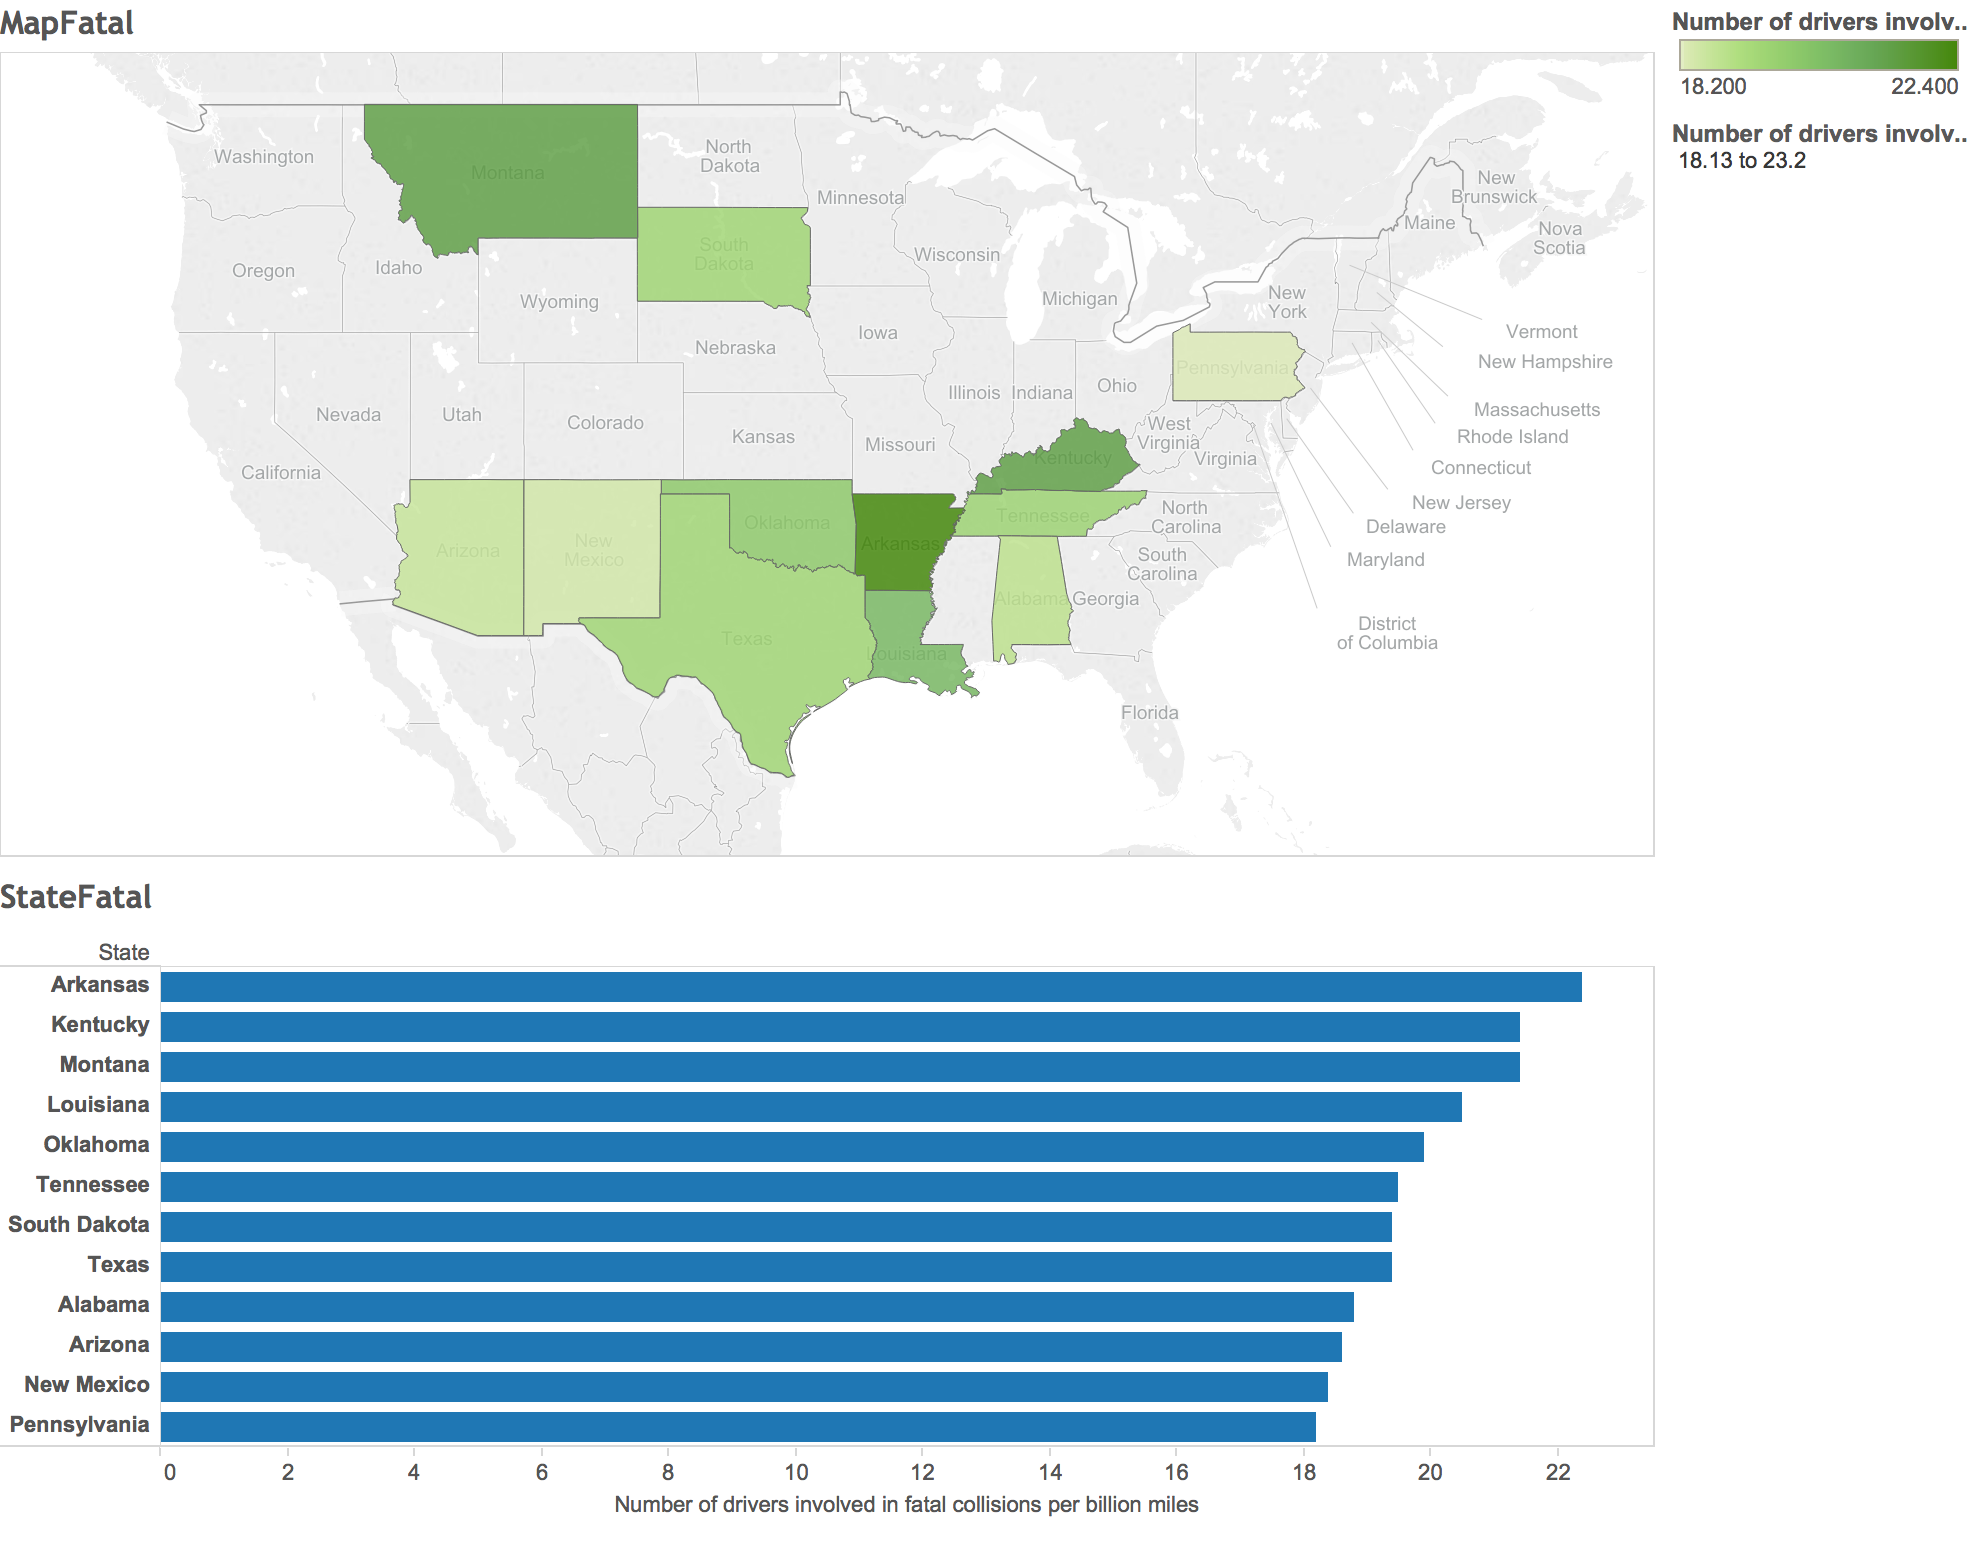

What the dashboard file says about the page in this screenshot:
{"tool":"tableau","page":{"name":"Dashboard 1","canvas":[1000,800],"ordinal":0},"visuals":[{"type":"worksheet","title":"MapFatal","mark":"Multipolygon","box":[0,0,840,441]},{"type":"legend","title":"MapFatal","param":"[textscan.0g8ufvw1q3f0x91awitfy1yd826i].[none:Number of drivers involved in fata","box":[840,0,160,62]},{"type":"filter","title":"StateFatal","param":"[textscan.0g8ufvw1q3f0x91awitfy1yd826i].[sum:Number of drivers involved in fatal","box":[840,62,160,66]},{"type":"worksheet","title":"StateFatal","mark":"Automatic","rows":["State"],"cols":["Number of drivers involved in fatal collisions per billion m"],"box":[0,441,840,359]}]}

Visuals, with their boxes in screenshot pixels (x1, y1, x2, y2), scaled from the page's 1000x800 canvas onto the 1968x1568 screenshot:
"MapFatal" worksheet (Multipolygon marks): {"x1": 0, "y1": 0, "x2": 1653, "y2": 864}
"MapFatal" legend: {"x1": 1653, "y1": 0, "x2": 1967, "y2": 122}
"StateFatal" filter: {"x1": 1653, "y1": 122, "x2": 1967, "y2": 251}
"StateFatal" worksheet: {"x1": 0, "y1": 864, "x2": 1653, "y2": 1567}
